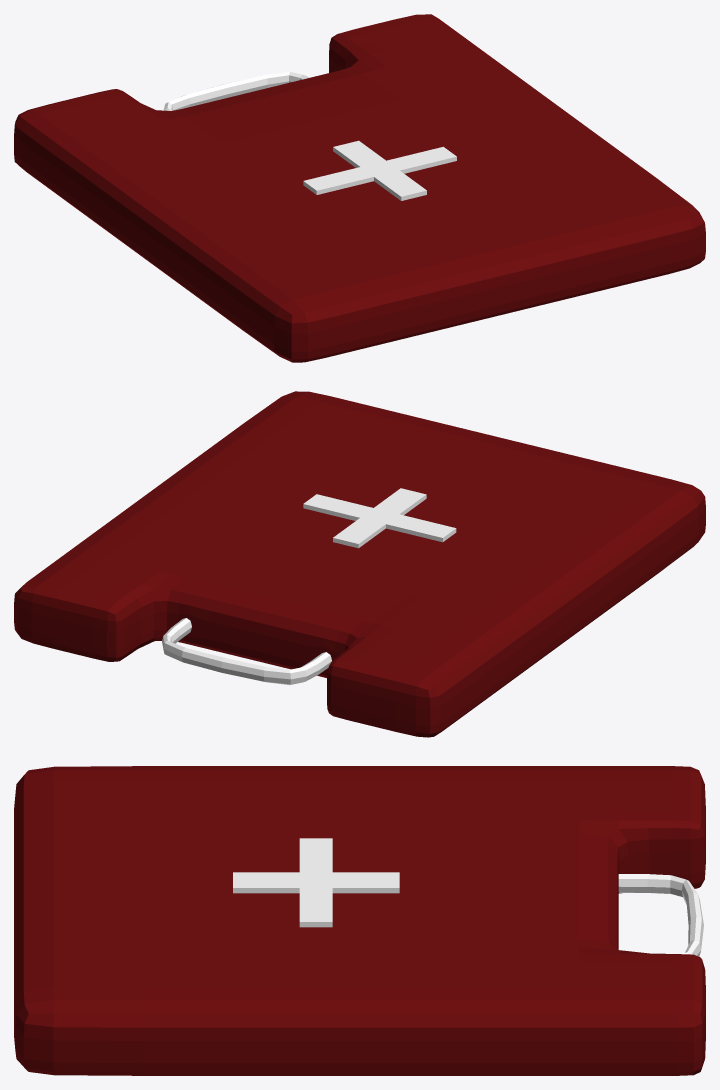
File: medkit.fbx
The picture shows the model from 3 angles, top to bottom: view 1: azimuth 30°, elevation 25°; view 2: azimuth 150°, elevation 25°; view 3: azimuth 270°, elevation 25°; orthographic projection. The views are drawn at different scales.
Visible parts, largest first — view 1: Cube, Cube.002, Cube.001; view 2: Cube, Cube.002, Cube.001; view 3: Cube, Cube.002, Cube.001.
Part boxes in pixels (left/top/right/bottom): Cube: left=14, top=14, right=705, bottom=362; Cube.002: left=303, top=140, right=456, bottom=200; Cube.001: left=163, top=72, right=309, bottom=110; Cube: left=14, top=391, right=705, bottom=737; Cube.002: left=303, top=488, right=456, bottom=548; Cube.001: left=162, top=618, right=331, bottom=685; Cube: left=14, top=766, right=705, bottom=1075; Cube.002: left=233, top=838, right=399, bottom=927; Cube.001: left=618, top=874, right=703, bottom=956.
Bounding box in the file's own units: 336 × 46.55 × 384.
